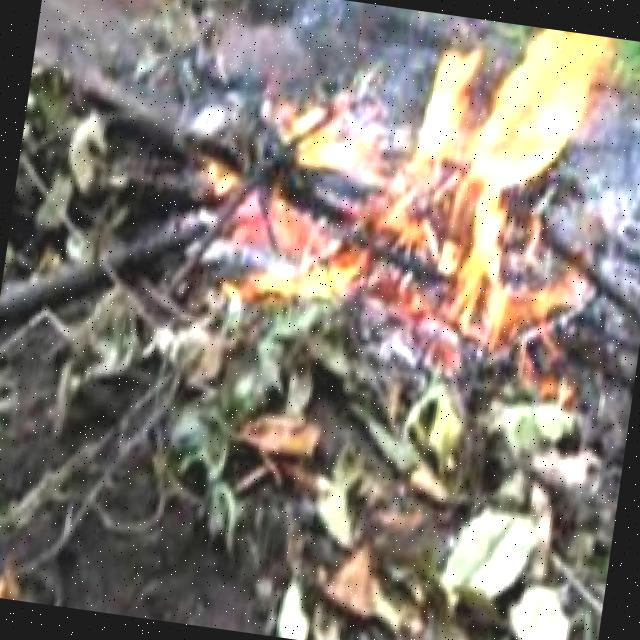fire: (257, 0, 636, 357)
